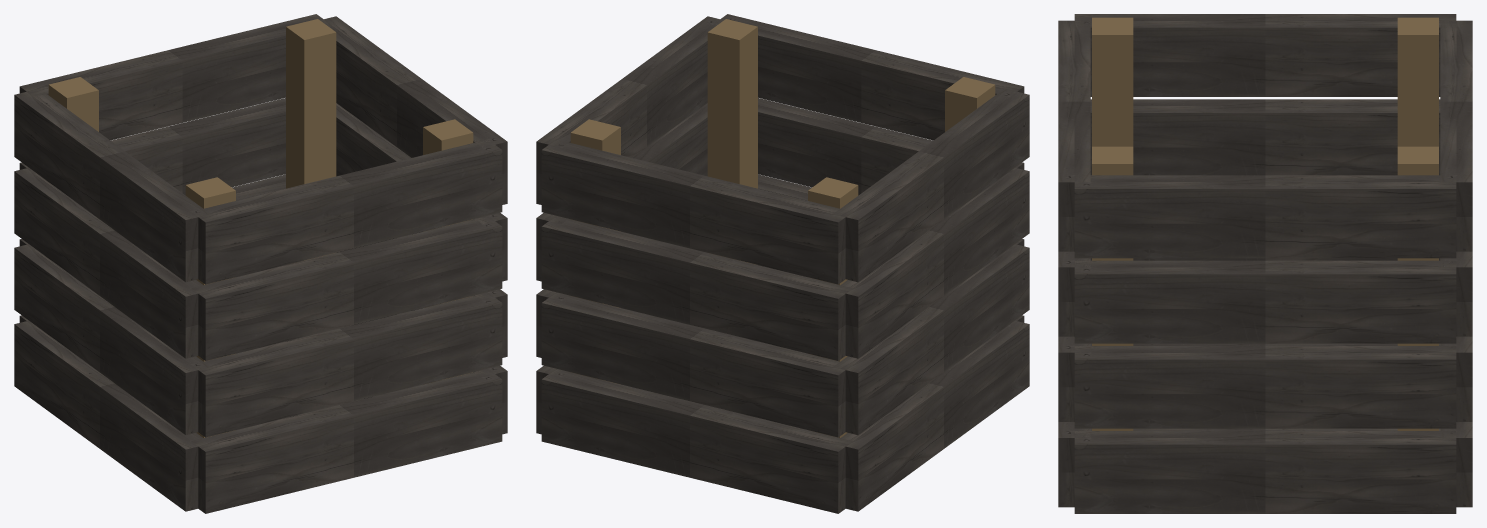
File: SM_OpenWoodenCrate_154c6a4fd4.fbx
3 renders of one model, left to right at view 1: azimuth 30°, elevation 25°; view 2: azimuth 150°, elevation 25°; view 3: azimuth 270°, elevation 25°, orthographic. The views are drawn at different scales.
Parts seen in each view (by area): view 1: SM_OpenWoodenCrate_154c6a4fd4; view 2: SM_OpenWoodenCrate_154c6a4fd4; view 3: SM_OpenWoodenCrate_154c6a4fd4.
Boxes of the visible parts, bbox=[...] form: SM_OpenWoodenCrate_154c6a4fd4: bbox=[14, 14, 507, 513]; SM_OpenWoodenCrate_154c6a4fd4: bbox=[536, 14, 1029, 513]; SM_OpenWoodenCrate_154c6a4fd4: bbox=[1058, 14, 1472, 513].
Size of what is drawn, in the model's own units: 70.5 by 70.5 by 65.
2 materials, 1 textured.
